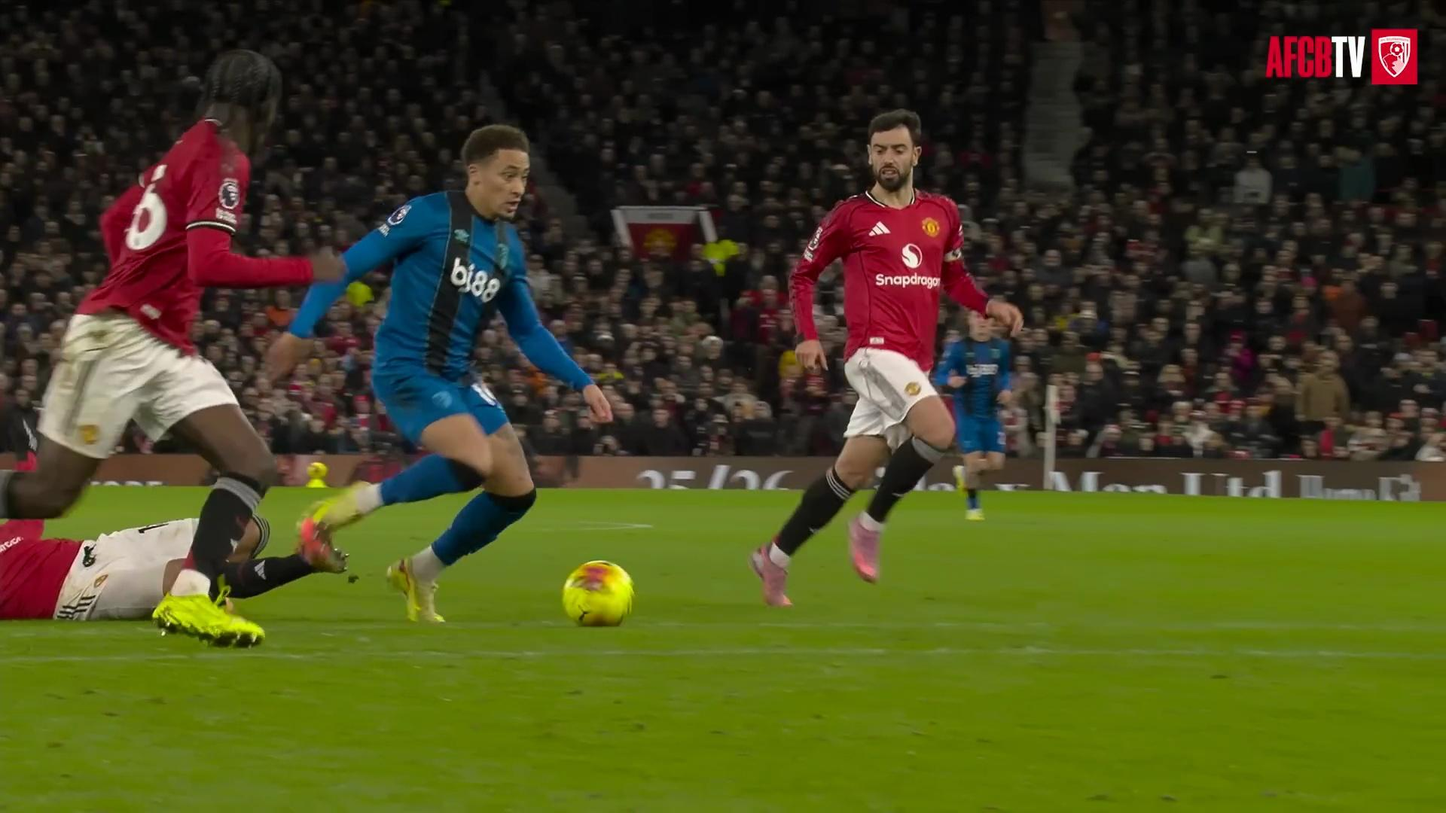football: (563, 560, 633, 626)
player: (0, 51, 342, 646), (268, 125, 611, 620), (751, 110, 1021, 604), (0, 519, 199, 620), (935, 312, 1011, 520)
